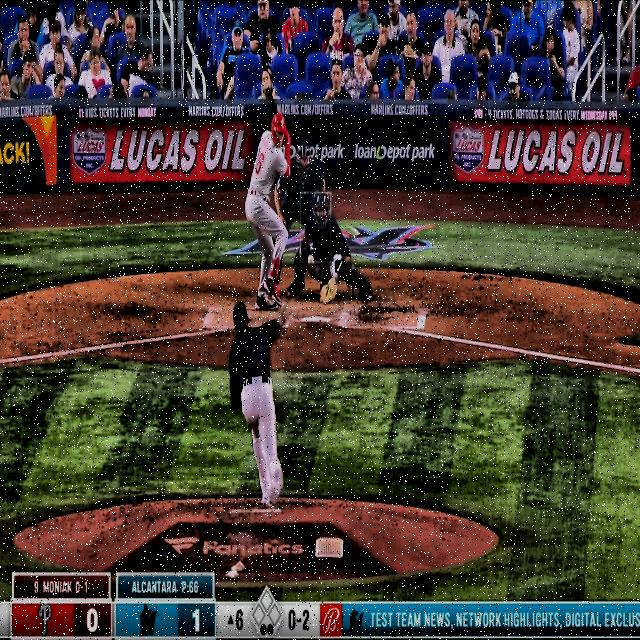baseball: (307, 254, 315, 266)
